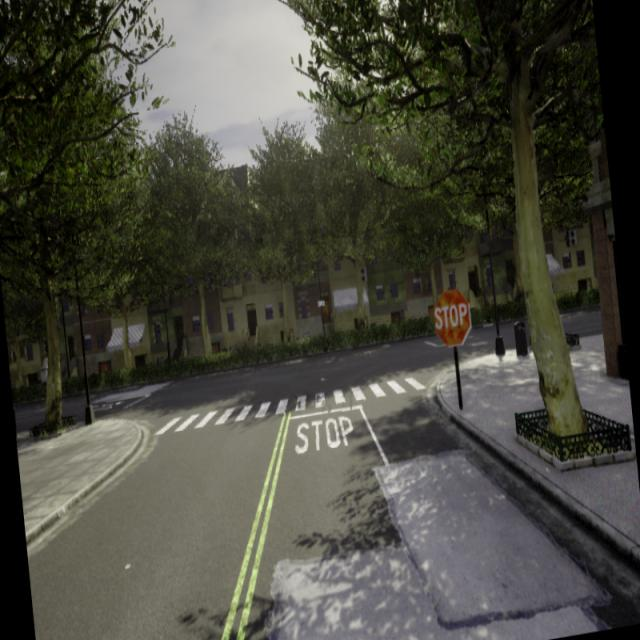stop sign: (430, 285, 473, 349), (433, 300, 469, 330)
